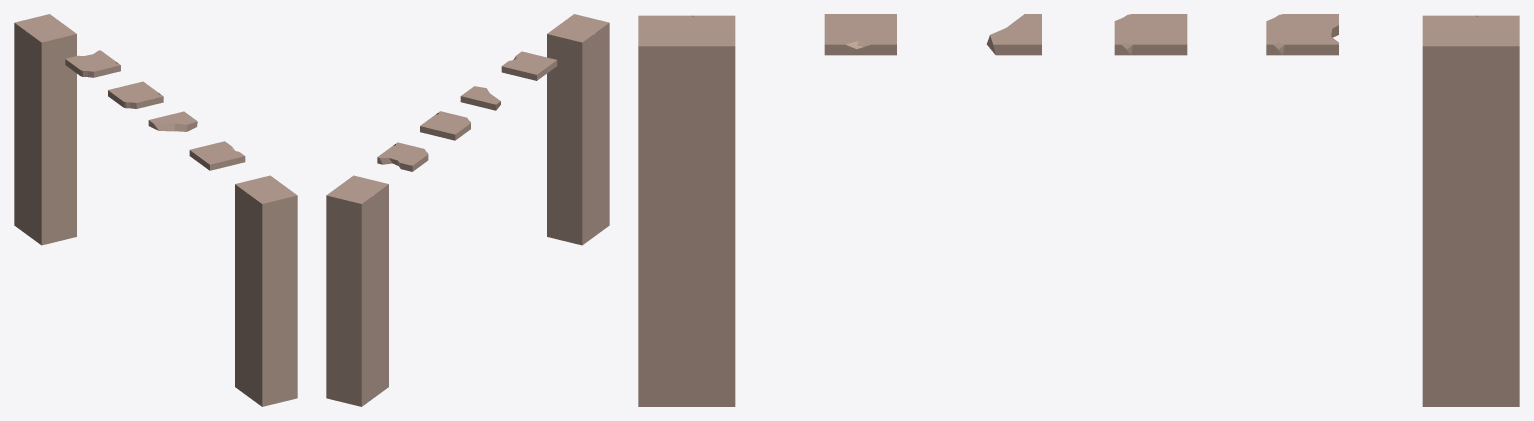
The model's file is Nivel9.fbx.
3 views of the same model, side by side, from view 1: azimuth 30°, elevation 25°; view 2: azimuth 150°, elevation 25°; view 3: azimuth 270°, elevation 25° (orthographic). The views are drawn at different scales.
Visible parts, largest first — view 1: Plataforma-M.011, Plataforma-M.012, Cubo.032, Cubo.031, Cubo.033, Cubo.030; view 2: Plataforma-M.012, Plataforma-M.011, Cubo.032, Cubo.031, Cubo.033, Cubo.030; view 3: Plataforma-M.011, Plataforma-M.012, Cubo.032, Cubo.031, Cubo.033, Cubo.030.
Boxes of the visible parts, left/top/right/bottom form: Plataforma-M.011: left=235, top=175, right=297, bottom=406; Plataforma-M.012: left=14, top=14, right=76, bottom=245; Cubo.032: left=189, top=141, right=245, bottom=170; Cubo.031: left=108, top=81, right=163, bottom=108; Cubo.033: left=65, top=50, right=120, bottom=77; Cubo.030: left=148, top=111, right=197, bottom=131; Plataforma-M.012: left=326, top=175, right=388, bottom=406; Plataforma-M.011: left=547, top=14, right=609, bottom=245; Cubo.032: left=501, top=51, right=557, bottom=80; Cubo.031: left=420, top=111, right=470, bottom=140; Cubo.033: left=377, top=142, right=428, bottom=171; Cubo.030: left=460, top=86, right=500, bottom=110; Plataforma-M.011: left=638, top=15, right=735, bottom=406; Plataforma-M.012: left=1422, top=15, right=1519, bottom=406; Cubo.032: left=824, top=14, right=896, bottom=55; Cubo.031: left=1114, top=14, right=1187, bottom=55; Cubo.033: left=1266, top=14, right=1338, bottom=55; Cubo.030: left=986, top=14, right=1041, bottom=55.
Bounding box in the file's own units: 1215 × 6685 × 14731.
